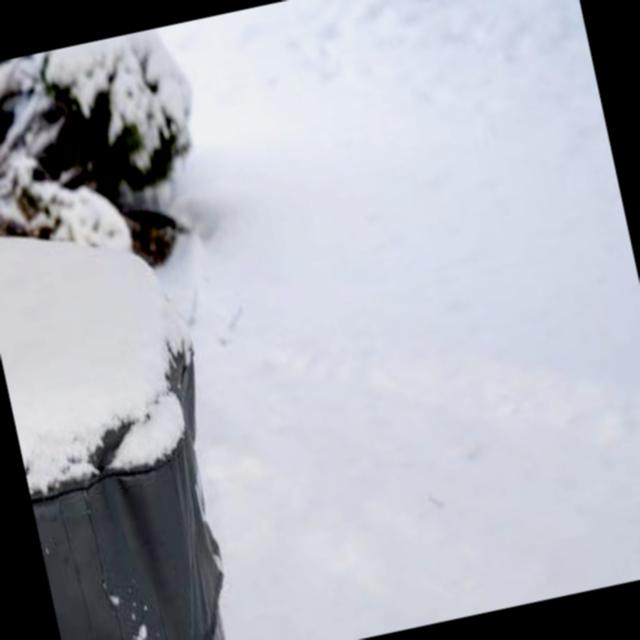SPLIT-SYSTEM: (0, 182, 243, 640)
